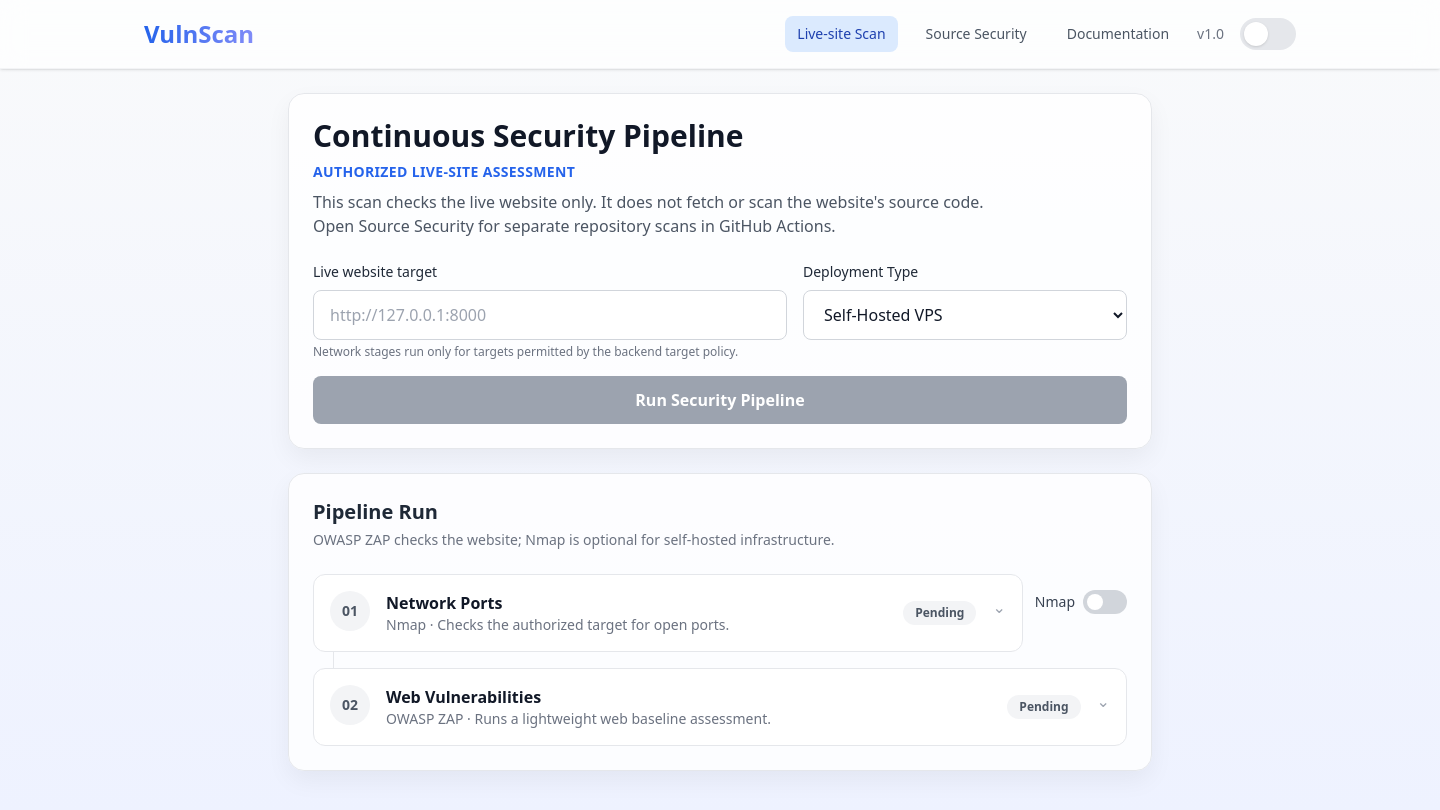
keeps live-site scanning separate from repository source security
The image size is (1440, 810).
Expected: the heading "Continuous Security Pipeline" is shown, [313,115,744,156]
Expected: the heading "Network Ports" is shown, [386,592,502,614]
Click the button "Source Security" at (976, 34), box [914,16,1039,52]
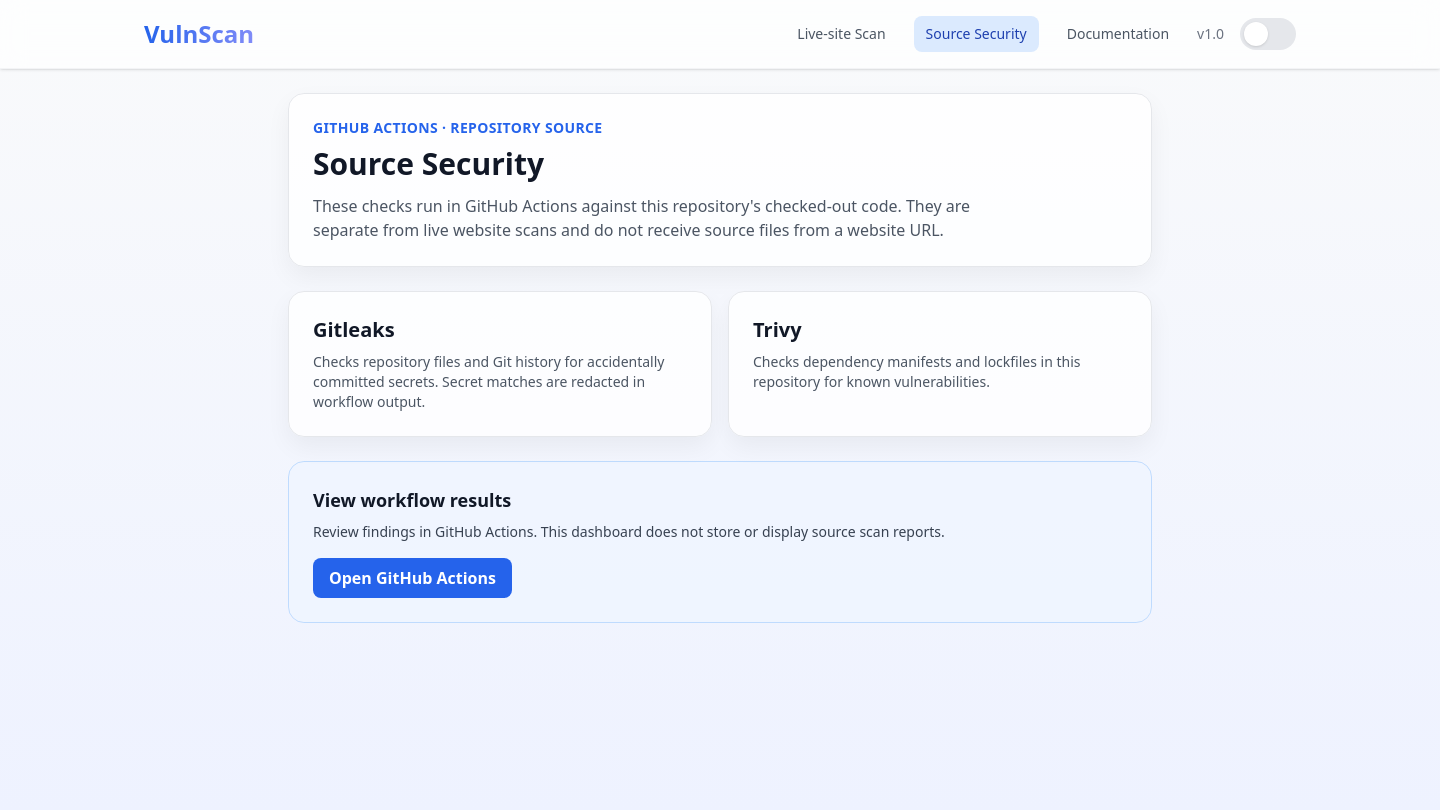
Expected: the heading "Source Security" is shown, [313,143,544,184]
Now the heading "Gitleaks" is shown, box [313,316,395,343]
Now the heading "Trivy" is shown, box [753,316,802,343]
Click the button "Live-site Scan" at (841, 34), box [785,16,898,52]
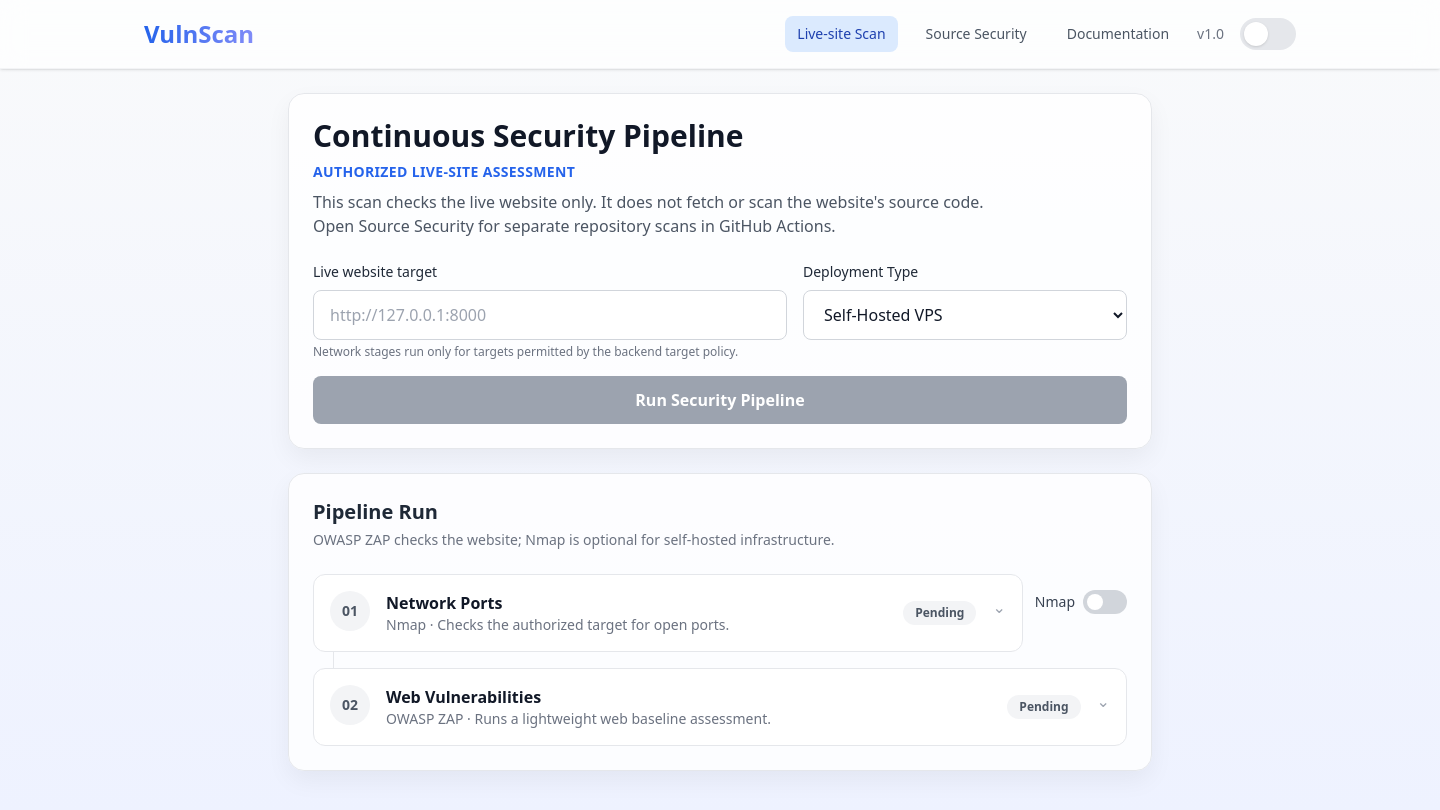
Now the heading "Network Ports" is shown, box [386,592,502,614]
Now the heading "Gitleaks" is gone
